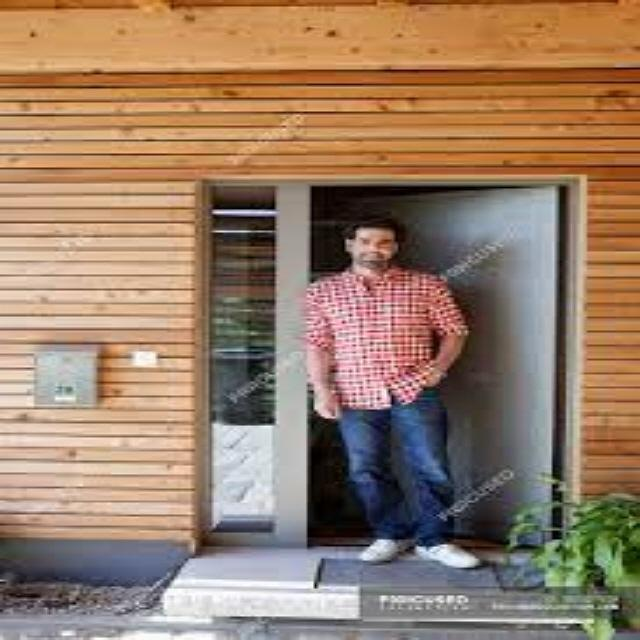Stand: (307, 222, 481, 570)
